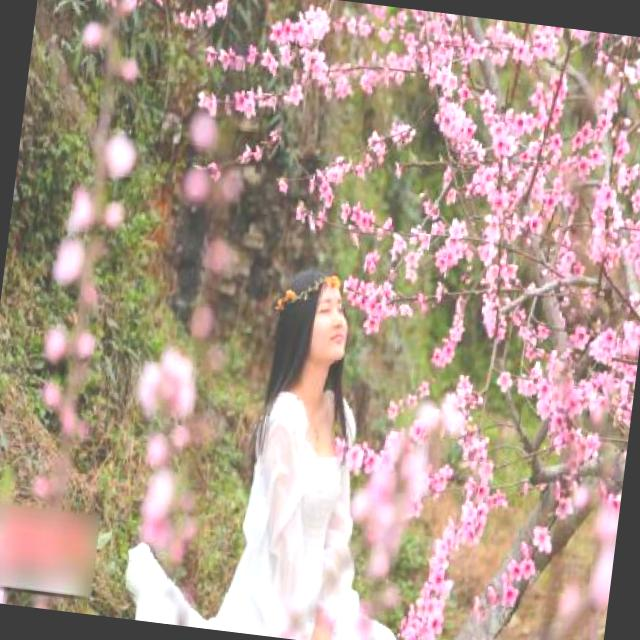Person: (206, 247, 409, 640)
